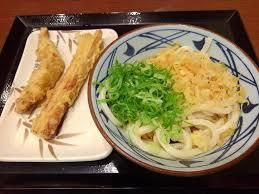bukkake: (104, 29, 257, 168)
